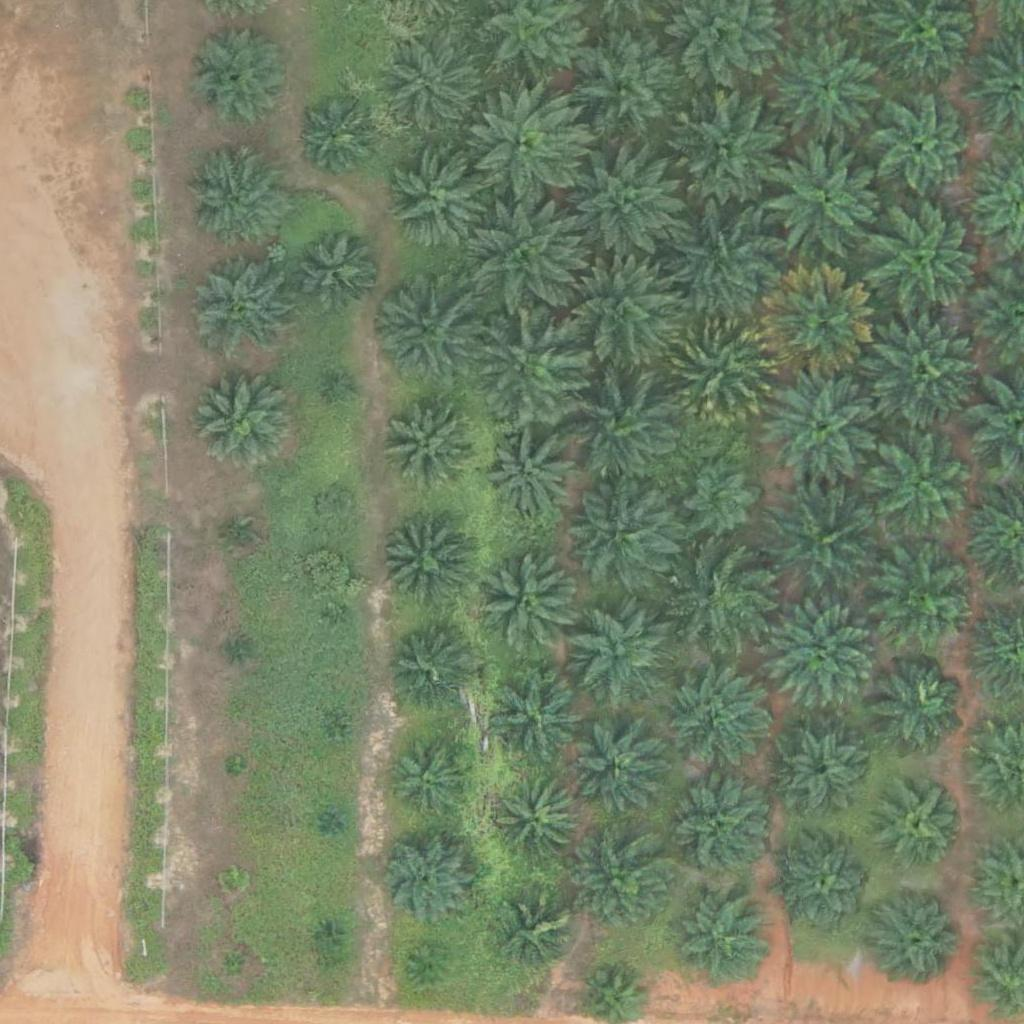Kelapa_Sawit: (764, 605, 877, 719), (371, 274, 484, 388), (571, 33, 684, 146), (674, 87, 787, 200), (673, 205, 786, 318), (866, 433, 979, 546), (762, 266, 875, 379), (664, 315, 777, 428), (764, 367, 877, 480), (761, 485, 874, 598), (471, 202, 583, 316), (565, 372, 677, 486), (569, 475, 681, 589), (474, 308, 586, 422), (470, 92, 582, 205), (573, 144, 685, 257), (771, 38, 883, 151), (768, 144, 880, 257), (872, 202, 984, 315), (865, 315, 977, 428), (562, 259, 674, 372), (371, 823, 483, 936), (184, 146, 284, 247), (872, 98, 972, 199), (877, 543, 977, 644), (568, 604, 668, 705), (477, 553, 577, 654), (485, 665, 585, 766), (192, 257, 292, 358), (190, 365, 290, 466), (572, 832, 672, 933), (666, 777, 766, 878), (671, 887, 771, 988), (189, 27, 289, 127), (387, 39, 487, 139), (389, 152, 489, 252), (866, 655, 966, 755), (673, 548, 773, 648), (666, 669, 766, 769), (777, 836, 877, 936), (869, 887, 969, 987), (389, 734, 477, 823), (774, 728, 862, 816), (386, 626, 474, 714), (495, 778, 583, 866), (575, 730, 662, 818), (487, 431, 574, 519), (387, 398, 474, 486), (380, 520, 467, 608), (293, 227, 380, 315), (877, 779, 964, 867), (300, 99, 375, 175), (682, 459, 757, 535), (502, 896, 577, 971), (318, 490, 356, 528), (411, 945, 449, 983), (331, 375, 356, 400), (327, 605, 352, 630), (321, 721, 346, 746), (227, 525, 252, 550), (227, 638, 252, 663), (223, 756, 248, 781), (219, 868, 244, 893), (222, 952, 247, 977), (322, 810, 347, 835), (315, 920, 340, 945)
